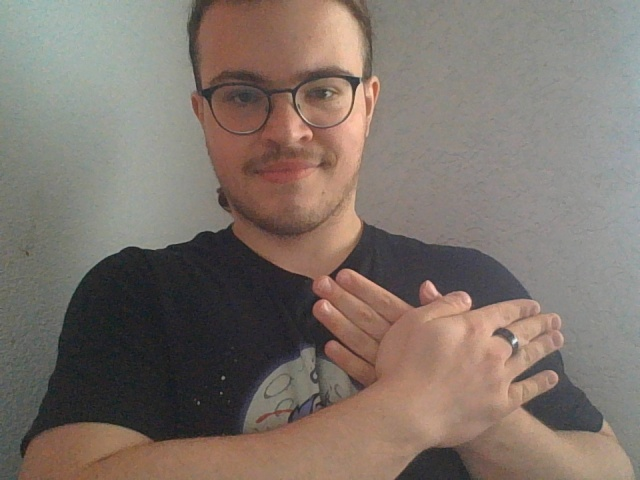Love: (308, 267, 566, 431)
